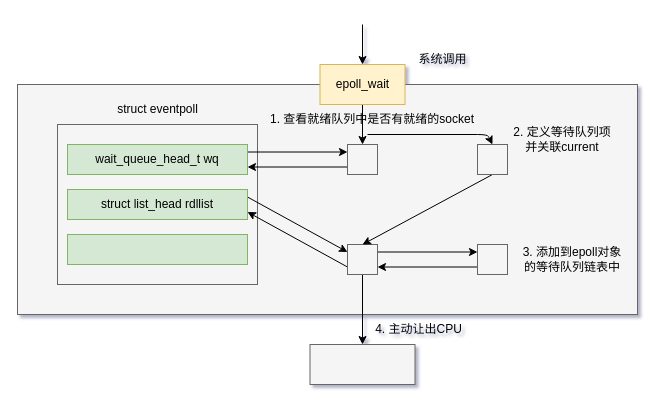
Some shapes in this 661 by 408 pixel diagram are drawn without their labels. Each missing label, with the box of its shape:
struct rb_root rbr: (66, 234, 248, 264)
进程B: (309, 344, 415, 384)
